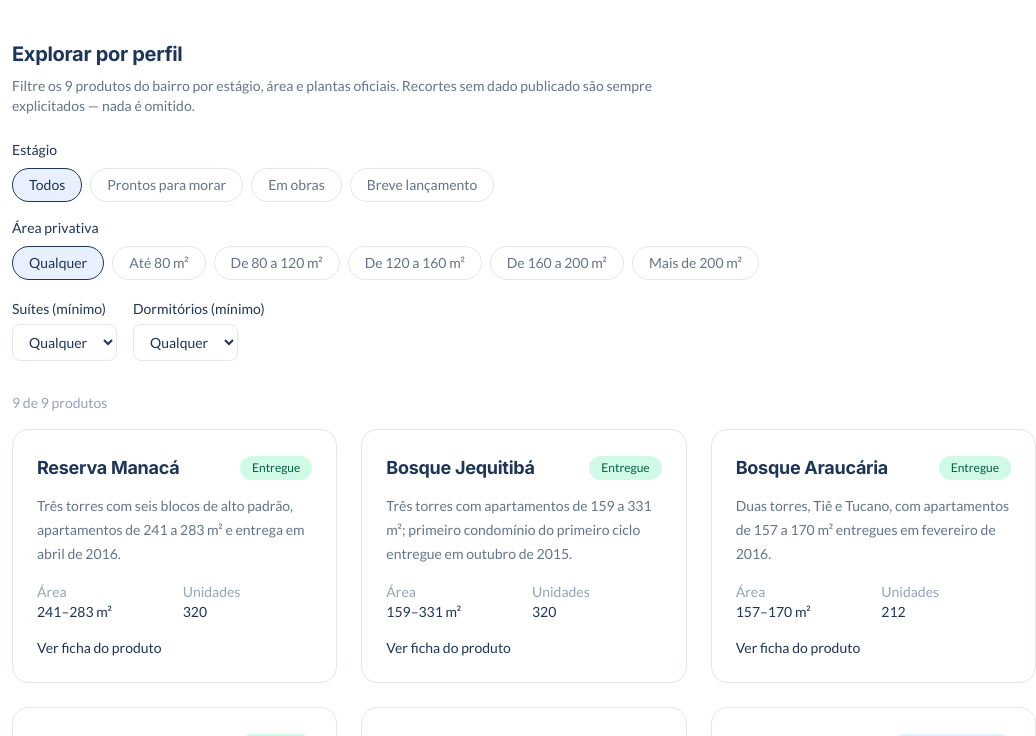
Test: DiscoveryExplorer › filters by stage — Breve lançamento shows only Sequoia
Click the button "Breve lançamento": (422, 185) left=350, top=168, right=494, bottom=202
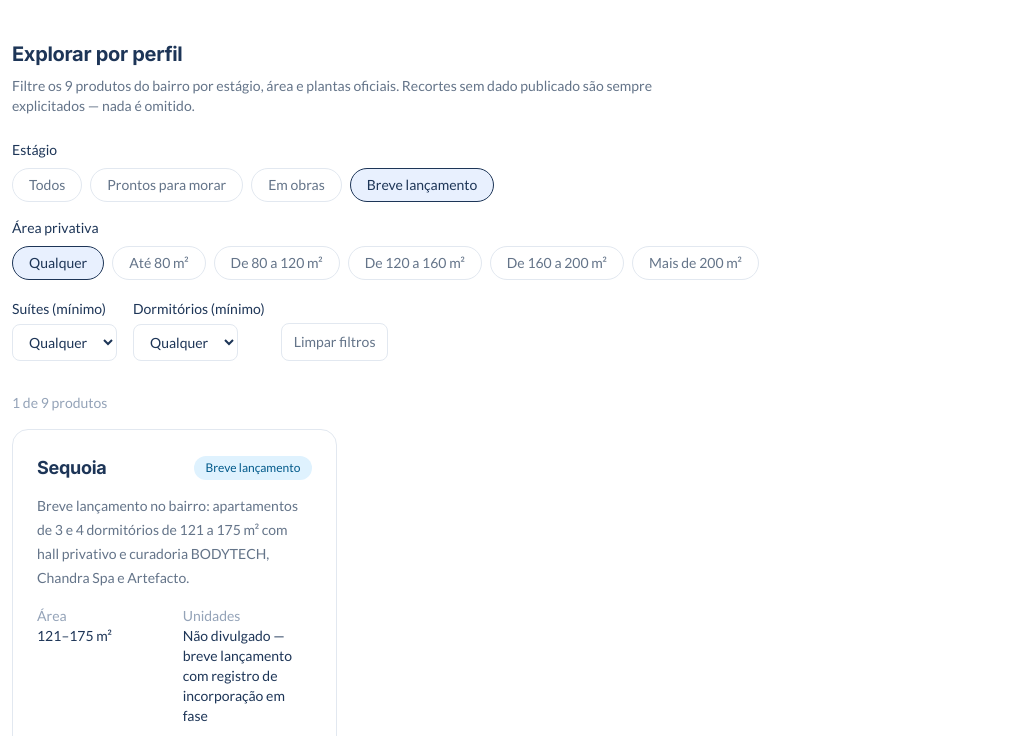
Expected: the heading "Sequoia" is shown, left=37, top=454, right=106, bottom=482
Now the text "1 de 9 produtos" is shown, box left=12, top=394, right=107, bottom=411
Now the link "Reserva Manacá" is gone
